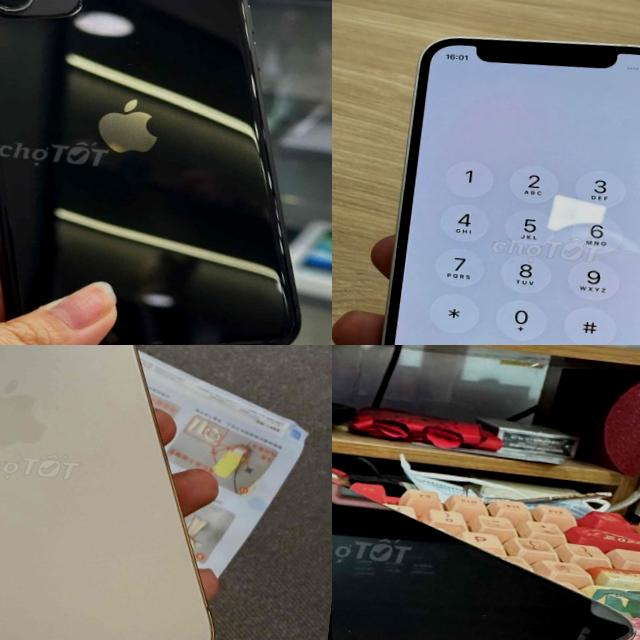gen_11: (0, 0, 332, 345)
gen_12_13: (370, 24, 640, 345), (0, 345, 269, 640), (332, 437, 640, 640)
